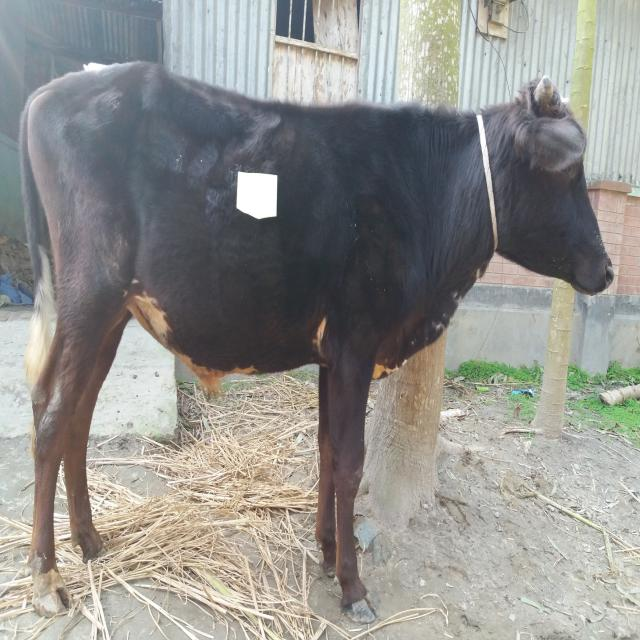badan_sapi: (38, 95, 383, 357)
sapi: (16, 56, 618, 628)
